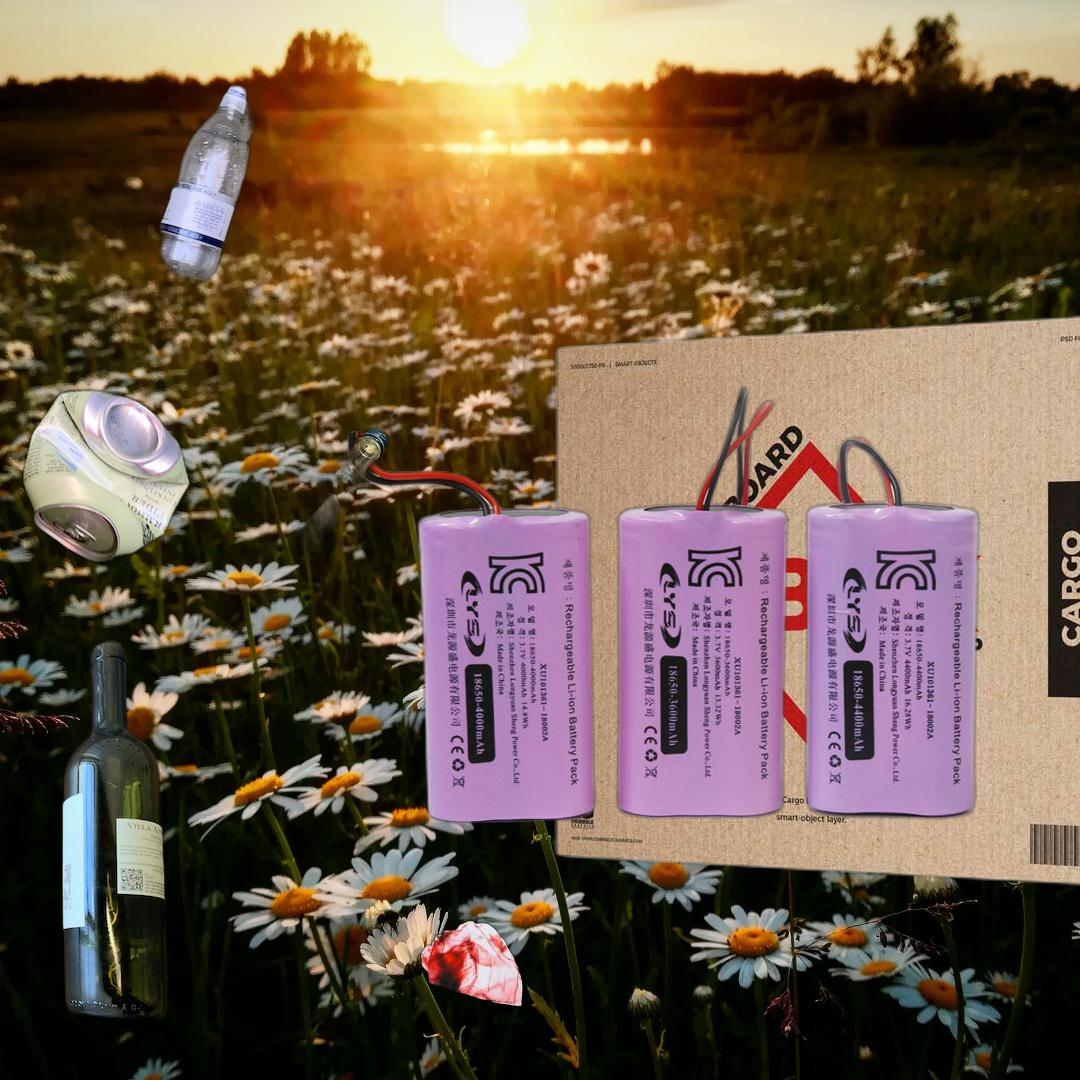battery: (341, 381, 986, 830)
glass: (4, 369, 516, 693), (57, 636, 171, 1027)
metal-cans: (18, 384, 195, 569)
plastic-bag: (419, 919, 525, 1008)
plastic-bottles: (152, 79, 262, 289)
trashbox-cardboard: (546, 307, 1080, 894)
